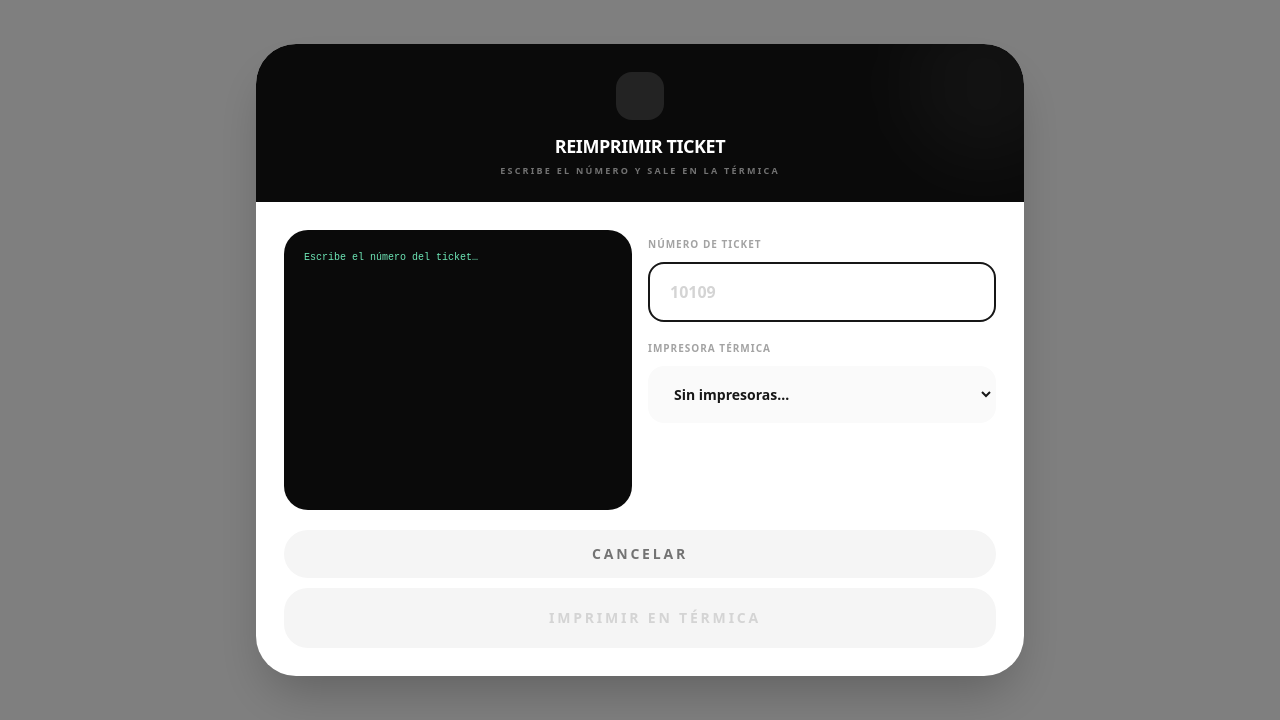
Scenario: reimprimir · búsqueda › si no existe muestra error rojo y el botón se ve desactivado
In the field with placeholder "10109": coordinates (822, 292) [648, 262, 996, 322], type "99999"
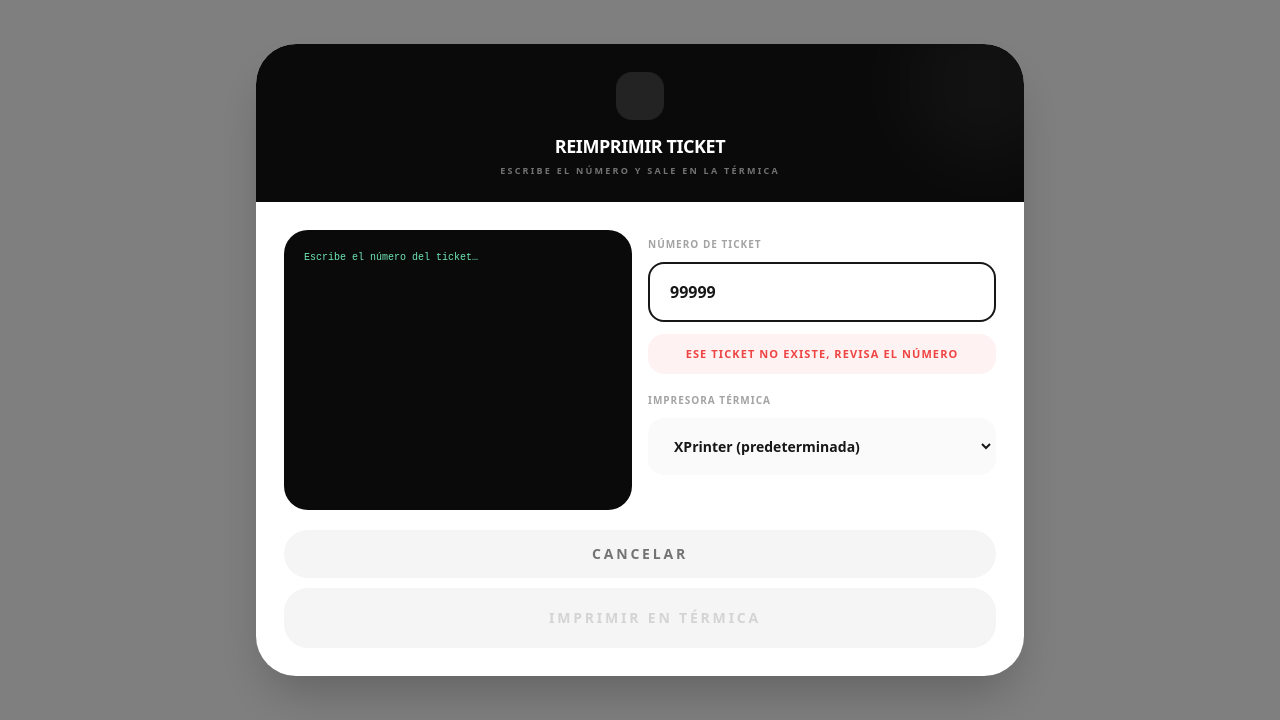
Expected: the text "Imprimir en térmica" is shown, [284, 588, 996, 648]
Expected: the text "Ese ticket no existe, revisa el número" is shown, [648, 334, 996, 374]
